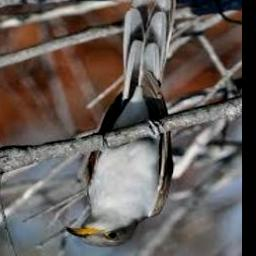Cuckoo: (66, 0, 175, 247)
